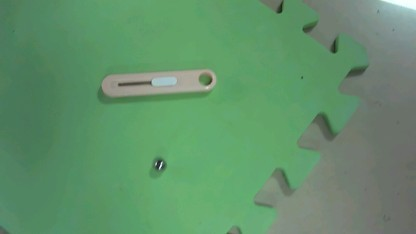ironball: (148, 154, 168, 174)
